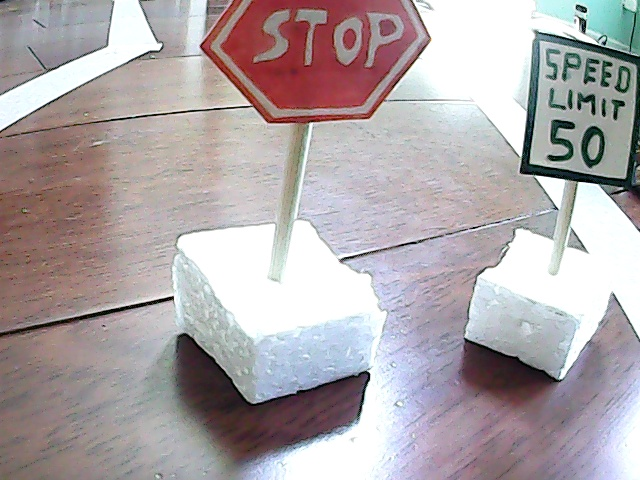speed_50: (485, 17, 632, 375)
stop: (178, 1, 420, 396)
